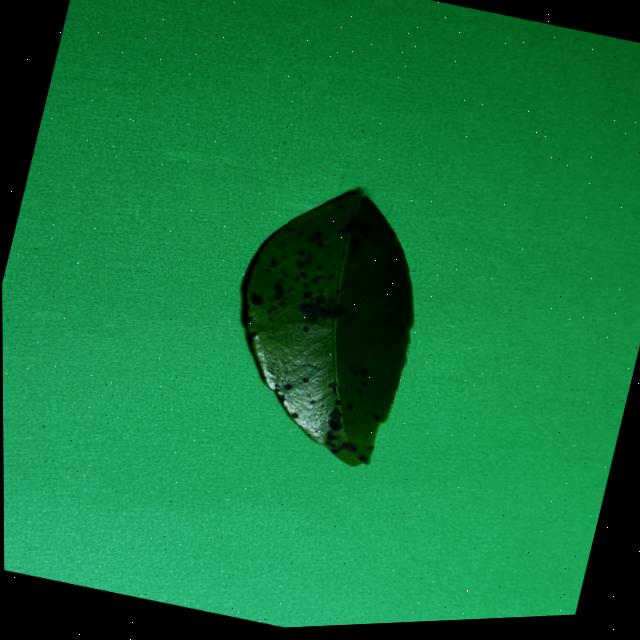sooty_mold: (245, 191, 412, 465)
